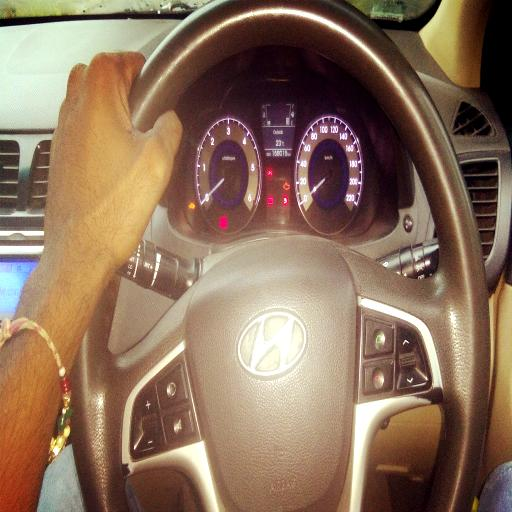check_engine: (283, 181, 290, 191)
tachometer: (196, 118, 262, 232)
vehicle_charging: (268, 197, 274, 205)
